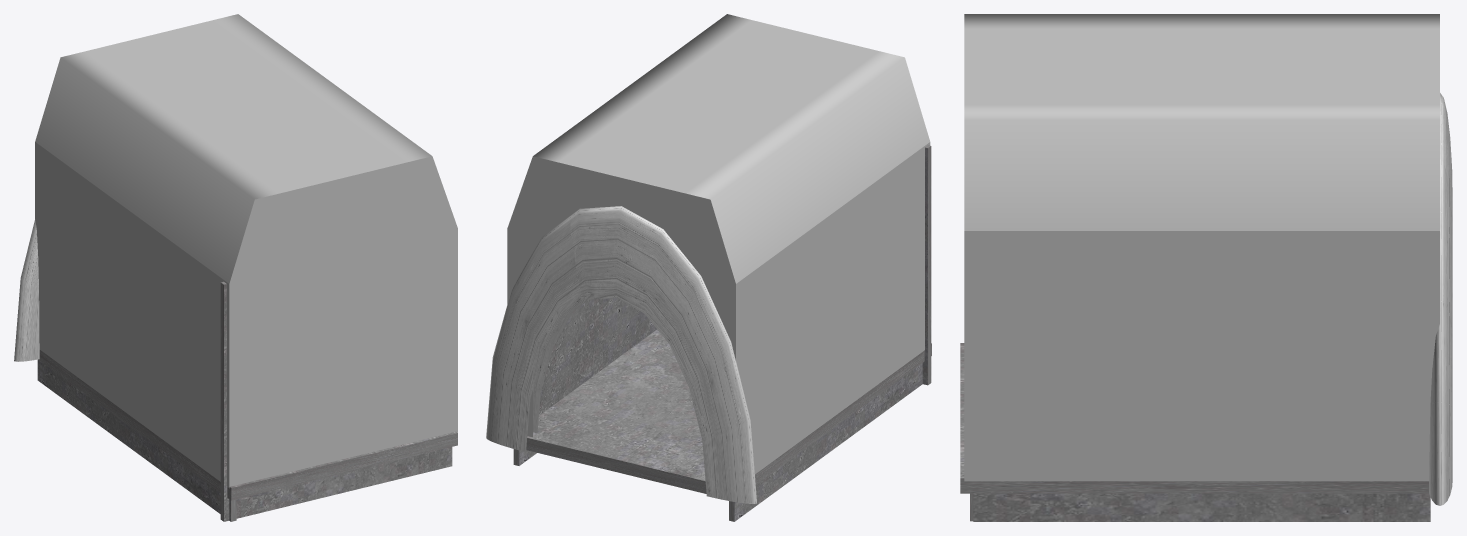
Rendered from toycarhouse.fbx.
3 views of the same model, side by side, from view 1: azimuth 30°, elevation 25°; view 2: azimuth 150°, elevation 25°; view 3: azimuth 270°, elevation 25° (orthographic). The views are drawn at different scales.
Visible parts, largest first — view 1: pCube1, pCube5, pCube2, pCube4, pTorus1; view 2: pCube1, pTorus1, pCube2, pCube3, pCube4, pCube5; view 3: pCube1, pCube3, pCube2, pTorus1.
Part boxes in pixels (<box>): pCube1: <box>35,14,457,488</box>; pCube5: <box>220,281,452,521</box>; pCube2: <box>38,350,457,500</box>; pCube4: <box>37,359,236,521</box>; pTorus1: <box>14,219,39,361</box>; pCube1: <box>507,14,930,474</box>; pTorus1: <box>486,206,756,503</box>; pCube2: <box>526,329,931,493</box>; pCube3: <box>513,298,656,465</box>; pCube4: <box>729,363,922,521</box>; pCube5: <box>922,145,931,385</box>; pCube1: <box>964,14,1439,481</box>; pCube3: <box>973,493,1430,521</box>; pCube2: <box>960,343,1428,493</box>; pTorus1: <box>1429,93,1452,505</box>.
Size of the model in its own units: 4.75 by 5.31 by 6.1.
